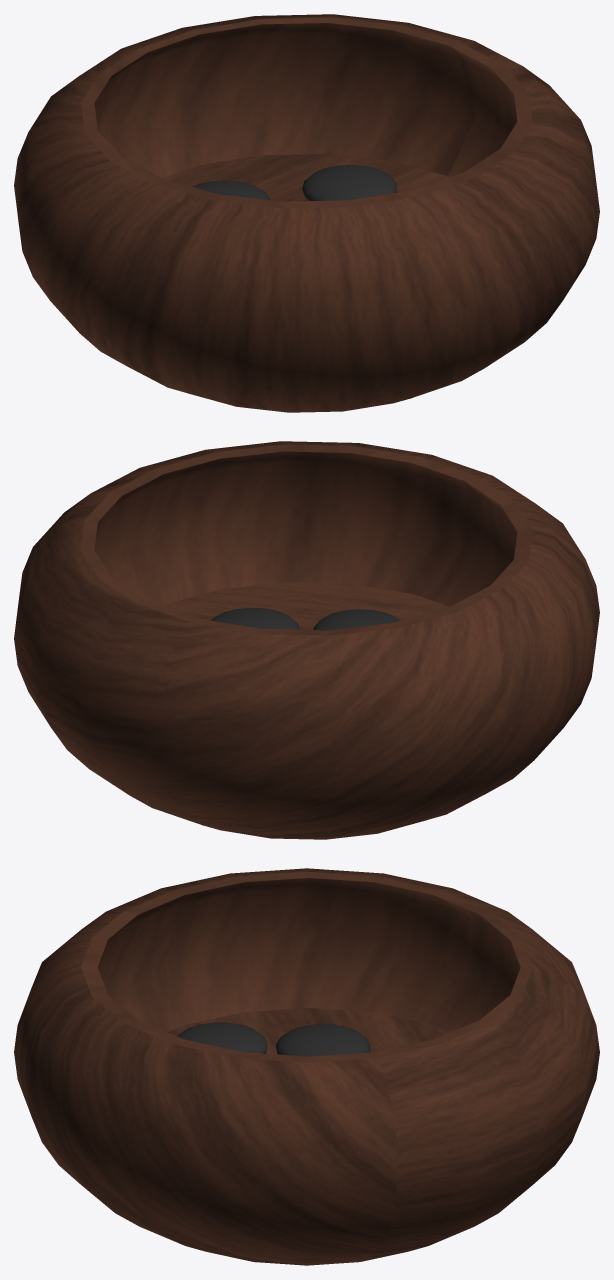
The model's file is BlackBowl.gltf.
The picture shows the model from 3 angles, top to bottom: view 1: azimuth 30°, elevation 25°; view 2: azimuth 150°, elevation 25°; view 3: azimuth 270°, elevation 25°; orthographic projection.
Visible parts, largest first — view 1: BlackBowl, BlackStone, BlackStone.001; view 2: BlackBowl, BlackStone.002, BlackStone.005; view 3: BlackBowl, BlackStone.004, BlackStone.006.
Boxes of the visible parts, <box> form: BlackBowl: <box>14,14,599,412</box>; BlackStone: <box>302,165,396,200</box>; BlackStone.001: <box>192,180,270,200</box>; BlackBowl: <box>14,441,599,839</box>; BlackStone.002: <box>211,607,299,629</box>; BlackStone.005: <box>313,609,399,630</box>; BlackBowl: <box>14,868,599,1265</box>; BlackStone.004: <box>276,1024,370,1056</box>; BlackStone.006: <box>177,1022,267,1053</box>.
Size of the model in its own units: 0.2669 by 0.1209 by 0.2669.
Materials: 8 (1 with a texture image).
